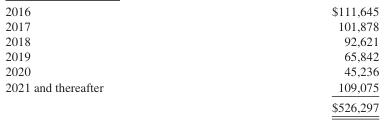table: (4, 3, 378, 113)
table column: (4, 3, 216, 113), (216, 3, 378, 113)
table row: (4, 78, 378, 96), (4, 96, 378, 113), (4, 3, 378, 18), (4, 18, 378, 33), (4, 33, 378, 48), (4, 48, 378, 63), (4, 63, 378, 78)
